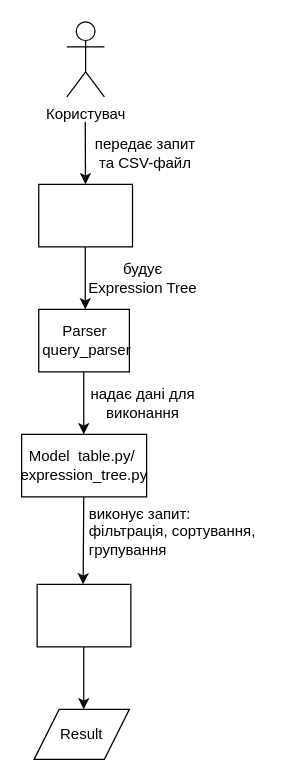
Some shapes in this 284 by 781 pixel diagram are drawn without their labels. The centre of each missing label's shape, as x and y in pixels:
CLI (cli.py): [85,215]
Utils csv_loader: [83,615]
